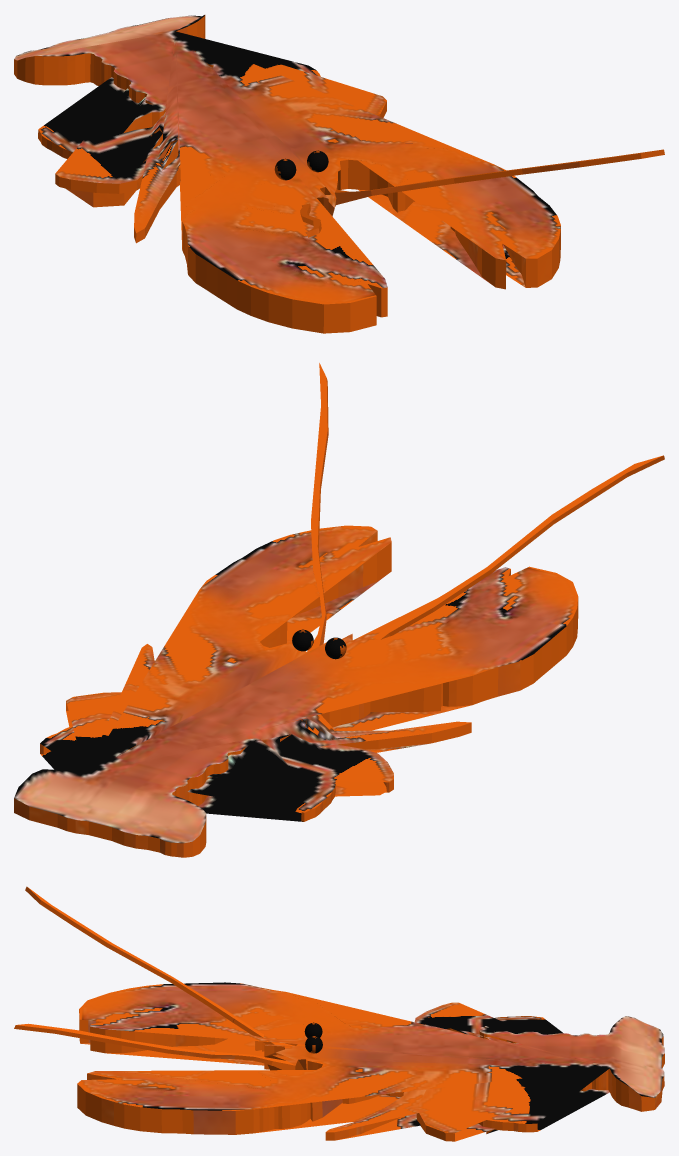
Rendered from aragosta.obj.
3 views of the same model, one above another, from view 1: azimuth 30°, elevation 25°; view 2: azimuth 150°, elevation 25°; view 3: azimuth 270°, elevation 25° (orthographic). The views are drawn at different scales.
Parts seen in each view (by area): view 1: aragosta; view 2: aragosta; view 3: aragosta.
Part boxes in pixels (x1,y1,x2,y2): aragosta: [14, 15, 664, 333]; aragosta: [14, 363, 664, 857]; aragosta: [14, 886, 664, 1141].
Bounding box in the file's own units: 4.54 × 2.08 × 8.88.
